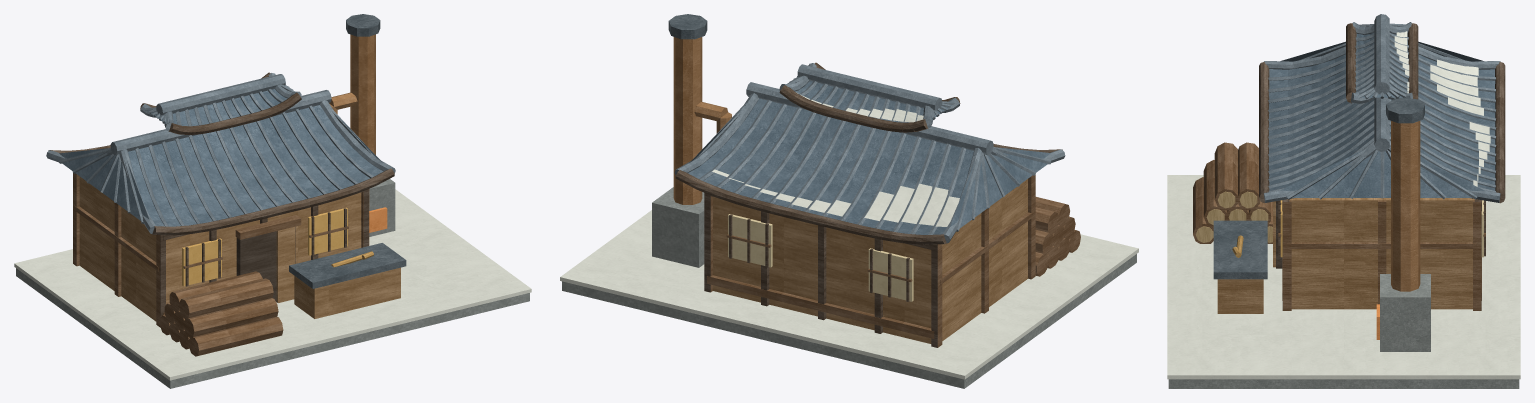
Rendered from BLD_WORKSHOP.glb.
The picture shows the model from 3 angles, left to right: view 1: azimuth 30°, elevation 25°; view 2: azimuth 150°, elevation 25°; view 3: azimuth 270°, elevation 25°; orthographic projection. The views are drawn at different scales.
Visible parts, largest first — view 1: BLD_WORKSHOP; view 2: BLD_WORKSHOP; view 3: BLD_WORKSHOP.
Part boxes in pixels (x1,y1,x2,y2): BLD_WORKSHOP: (14, 14, 531, 388); BLD_WORKSHOP: (560, 14, 1138, 388); BLD_WORKSHOP: (1167, 14, 1520, 388).
Bounding box in the file's own units: 6.7 × 3.87 × 4.99.
Materials: 15 (15 with a texture image).
